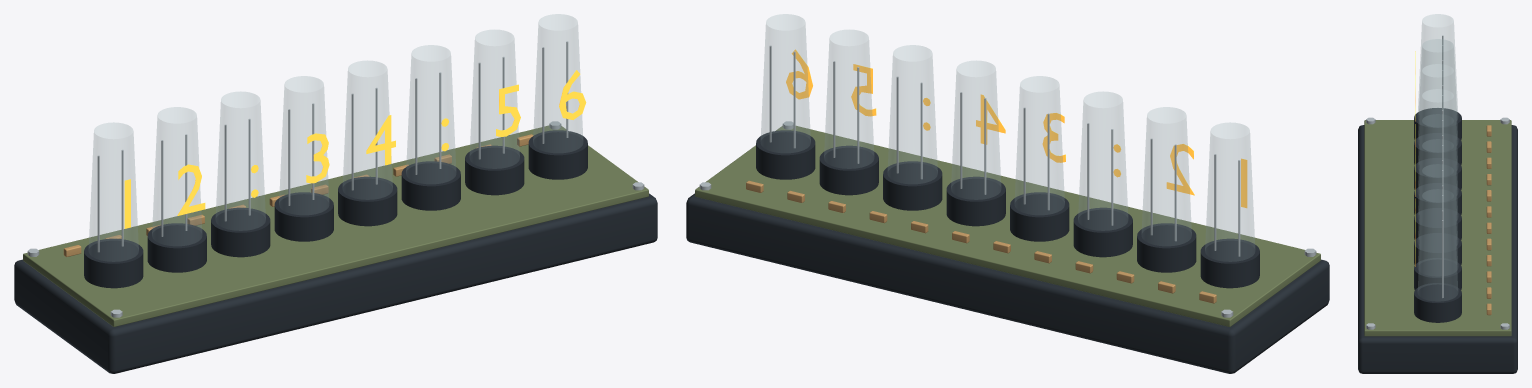
The model's file is divergence-clock.glb.
The picture shows the model from 3 angles, left to right: view 1: azimuth 30°, elevation 25°; view 2: azimuth 150°, elevation 25°; view 3: azimuth 270°, elevation 25°; orthographic projection. The views are drawn at different scales.
Visible parts, largest first — view 1: divergence-clock authored assembly, Preview time.007, Preview time.004, Preview time.001, Preview time.006, Preview time.003; view 2: divergence-clock authored assembly, Preview time.004, Preview time.007, Preview time.006, Preview time.001; view 3: divergence-clock authored assembly.
Part boxes in pixels (box(x1,y1,x2,y2)): divergence-clock authored assembly: box(14, 14, 657, 373); Preview time.007: box(559, 70, 586, 119); Preview time.004: box(366, 115, 395, 165); Preview time.001: box(177, 164, 205, 215); Preview time.006: box(496, 84, 520, 136); Preview time.003: box(306, 133, 329, 183); divergence-clock authored assembly: box(686, 14, 1329, 373); Preview time.004: box(976, 94, 1005, 144); Preview time.007: box(786, 49, 812, 99); Preview time.006: box(851, 64, 876, 116); Preview time.001: box(1166, 144, 1194, 195); divergence-clock authored assembly: box(1358, 14, 1517, 373).
Size of the model in its own units: 0.32 by 0.11 by 0.1.
